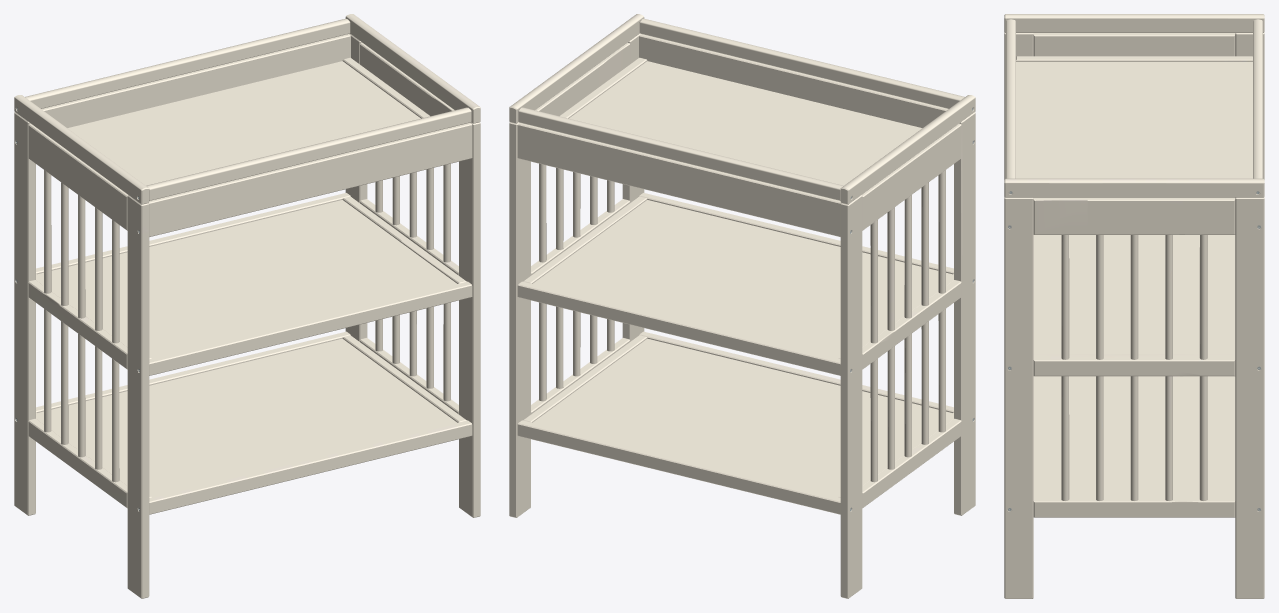
The model's file is gulliver_sto_do_przewijania_20307037.glb.
3 renders of one model, left to right at view 1: azimuth 30°, elevation 25°; view 2: azimuth 150°, elevation 25°; view 3: azimuth 270°, elevation 25°, orthographic.
Parts seen in each view (by area): view 1: gulliver_sto_do_przewijania_20307037; view 2: gulliver_sto_do_przewijania_20307037; view 3: gulliver_sto_do_przewijania_20307037.
Boxes of the visible parts, x1,y1,x2,y2 form: gulliver_sto_do_przewijania_20307037: (14,14,480,598); gulliver_sto_do_przewijania_20307037: (509,14,975,598); gulliver_sto_do_przewijania_20307037: (1004,14,1264,598).
Bounding box in the file's own units: 0.82 × 0.946 × 0.534.
1 material, 1 textured.
